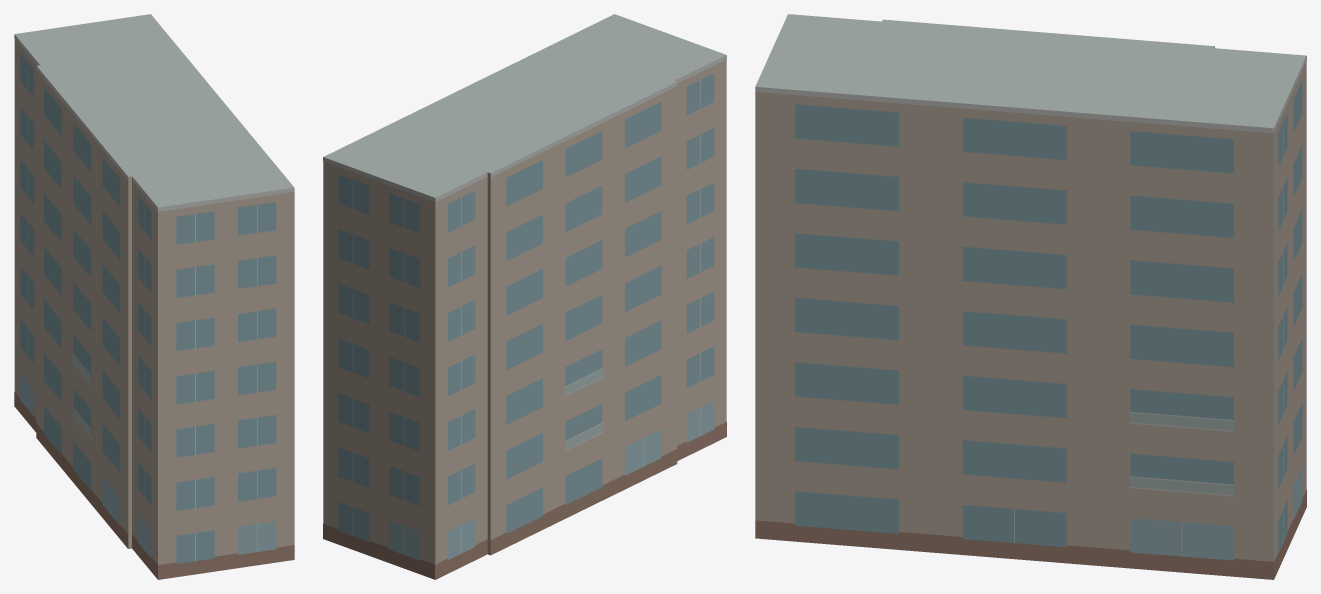
Rendered from survey-upis-33020035.glb.
The picture shows the model from 3 angles, left to right: view 1: azimuth 30°, elevation 25°; view 2: azimuth 150°, elevation 25°; view 3: azimuth 270°, elevation 25°; orthographic projection. The views are drawn at different scales.
Visible parts, largest first — view 1: survey-upis-33020035.tmp; view 2: survey-upis-33020035.tmp; view 3: survey-upis-33020035.tmp.
Part boxes in pixels (x1,y1,x2,y2): survey-upis-33020035.tmp: (14,14,294,579); survey-upis-33020035.tmp: (323,14,726,579); survey-upis-33020035.tmp: (755,14,1306,579).
Size of the model in its own units: 11.62 by 21.4 by 23.7.
